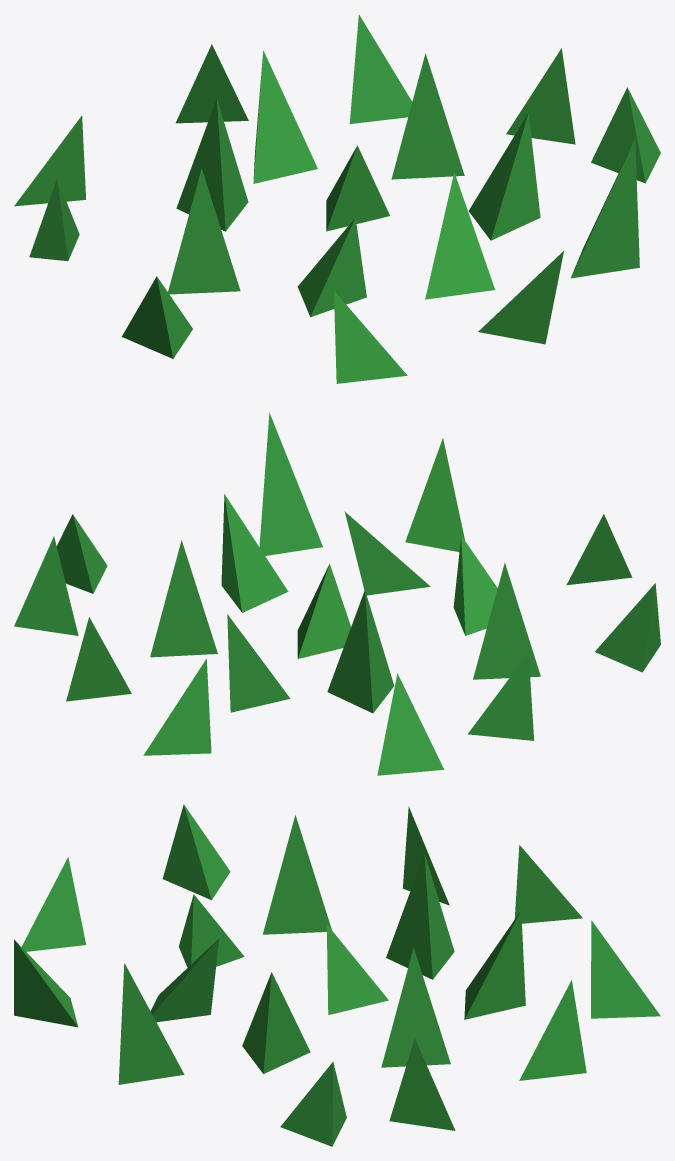
The model's file is Grass_3_Green.fbx.
3 views of the same model, one above another, from view 1: azimuth 30°, elevation 25°; view 2: azimuth 150°, elevation 25°; view 3: azimuth 270°, elevation 25° (orthographic). The views are drawn at different scales.
Parts seen in each view (by area): view 1: Grass_3_Green; view 2: Grass_3_Green; view 3: Grass_3_Green.
Boxes of the visible parts, <box> form: Grass_3_Green: <box>14,14,660,383</box>; Grass_3_Green: <box>14,412,660,775</box>; Grass_3_Green: <box>14,804,660,1146</box>.
Size of the model in its own units: 32.13 by 6.62 by 31.92.
